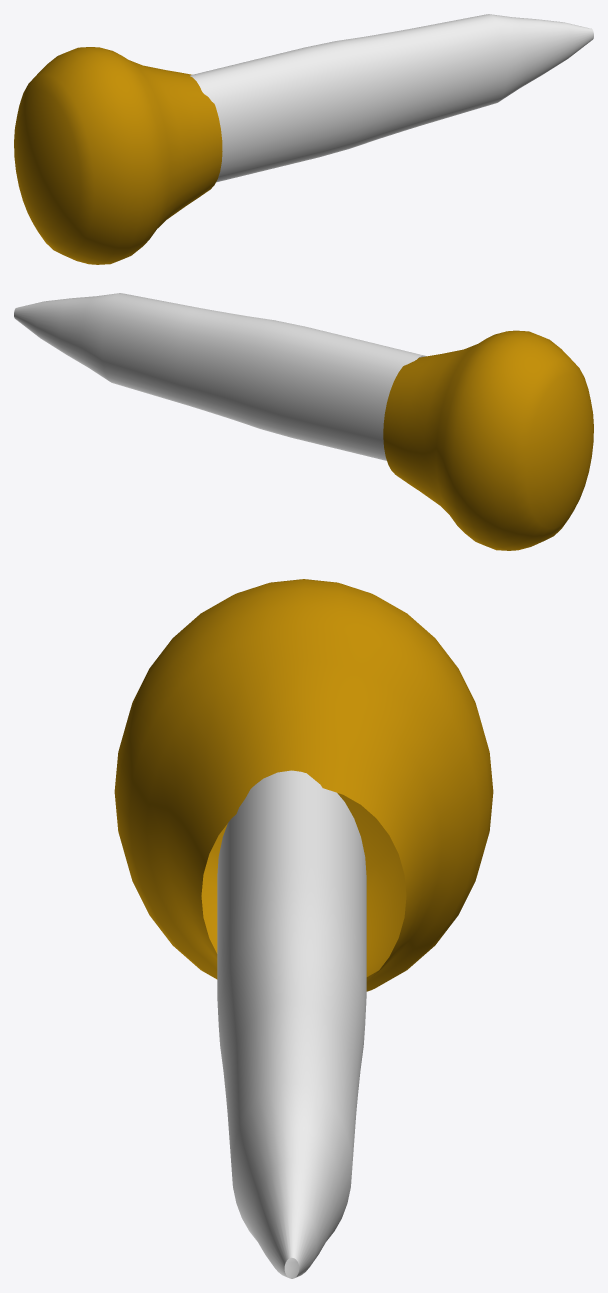
File: pippet.gltf
The picture shows the model from 3 angles, top to bottom: view 1: azimuth 30°, elevation 25°; view 2: azimuth 150°, elevation 25°; view 3: azimuth 270°, elevation 25°; orthographic projection. The views are drawn at different scales.
Parts seen in each view (by area): view 1: Cylinder; view 2: Cylinder; view 3: Cylinder.
Boxes of the visible parts, left/top/right/bottom form: Cylinder: left=14, top=14, right=593, bottom=264; Cylinder: left=14, top=293, right=593, bottom=550; Cylinder: left=114, top=579, right=493, bottom=1278.
Bounding box in the file's own units: 0.9018 × 0.317 × 0.2659.
